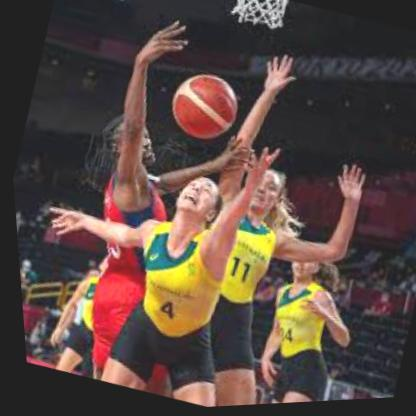basketball: (160, 68, 245, 150)
